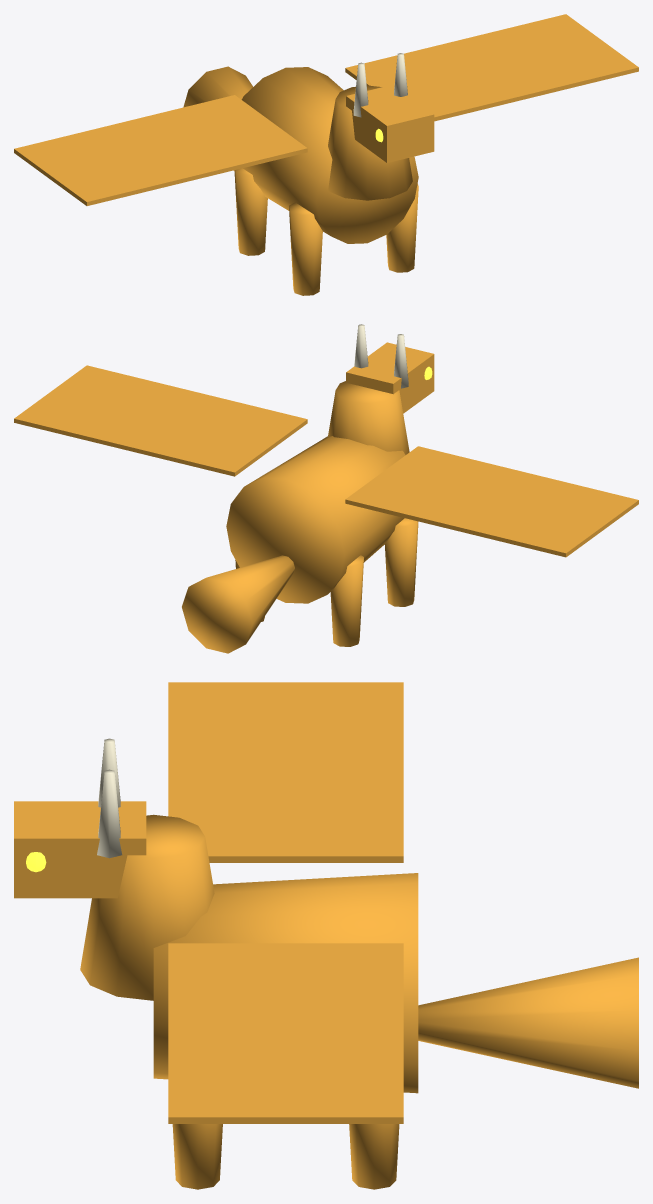
The picture shows the model from 3 angles, top to bottom: view 1: azimuth 30°, elevation 25°; view 2: azimuth 150°, elevation 25°; view 3: azimuth 270°, elevation 25°; orthographic projection. The views are drawn at different scales.
Visible parts, largest first — view 1: Generated3DMesh; view 2: Generated3DMesh; view 3: Generated3DMesh.
Boxes of the visible parts, x1,y1,x2,y2 form: Generated3DMesh: [14, 14, 638, 295]; Generated3DMesh: [14, 324, 638, 653]; Generated3DMesh: [14, 682, 638, 1189].
Size of the model in its own units: 7 by 2.9 by 4.25.
